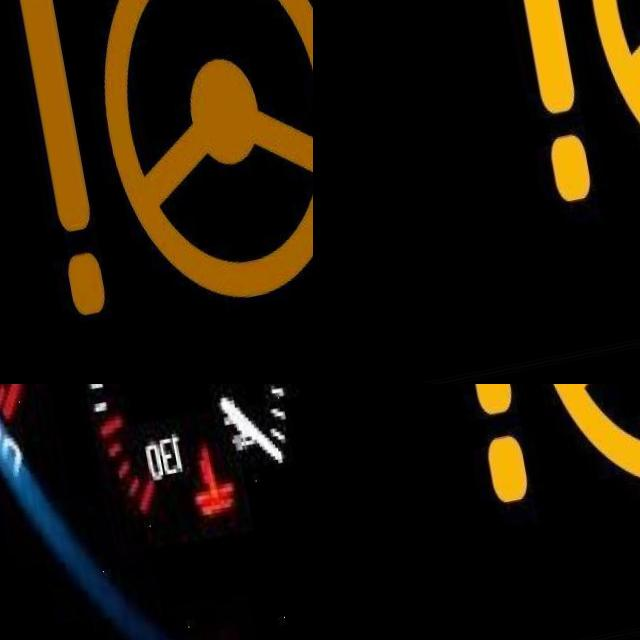Electronic Power Steering: (6, 0, 313, 338), (485, 0, 640, 225), (422, 384, 640, 526)
